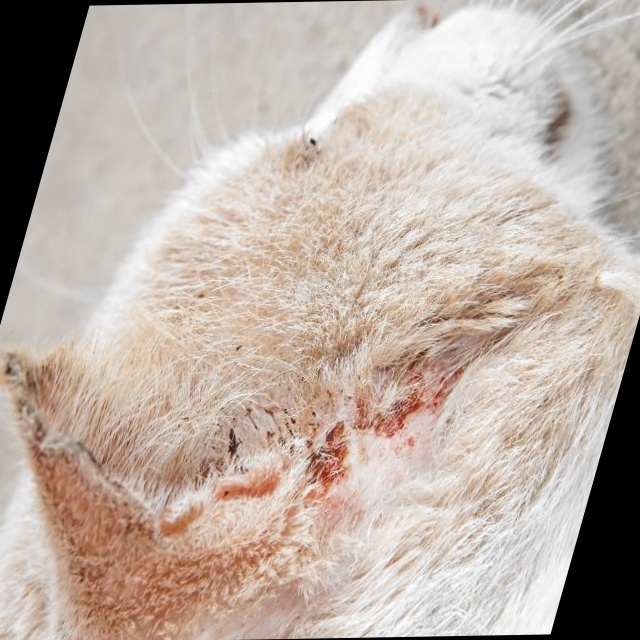ringworm: (211, 351, 486, 498)
